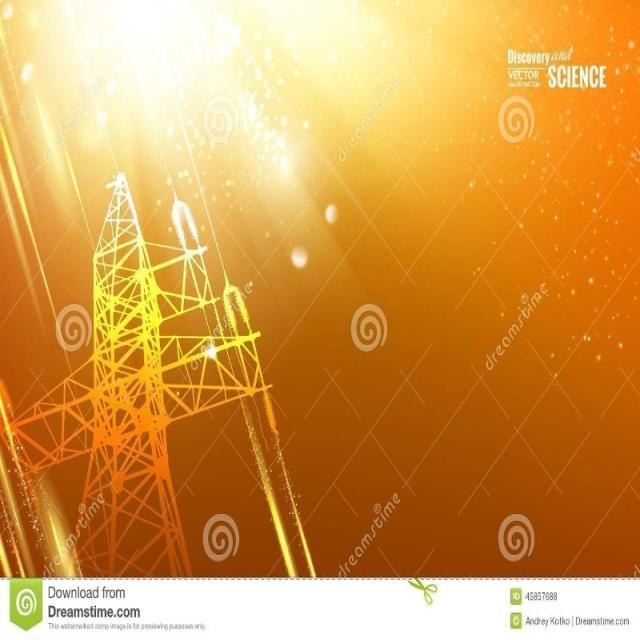non-critical vegetation: (15, 152, 250, 578)
